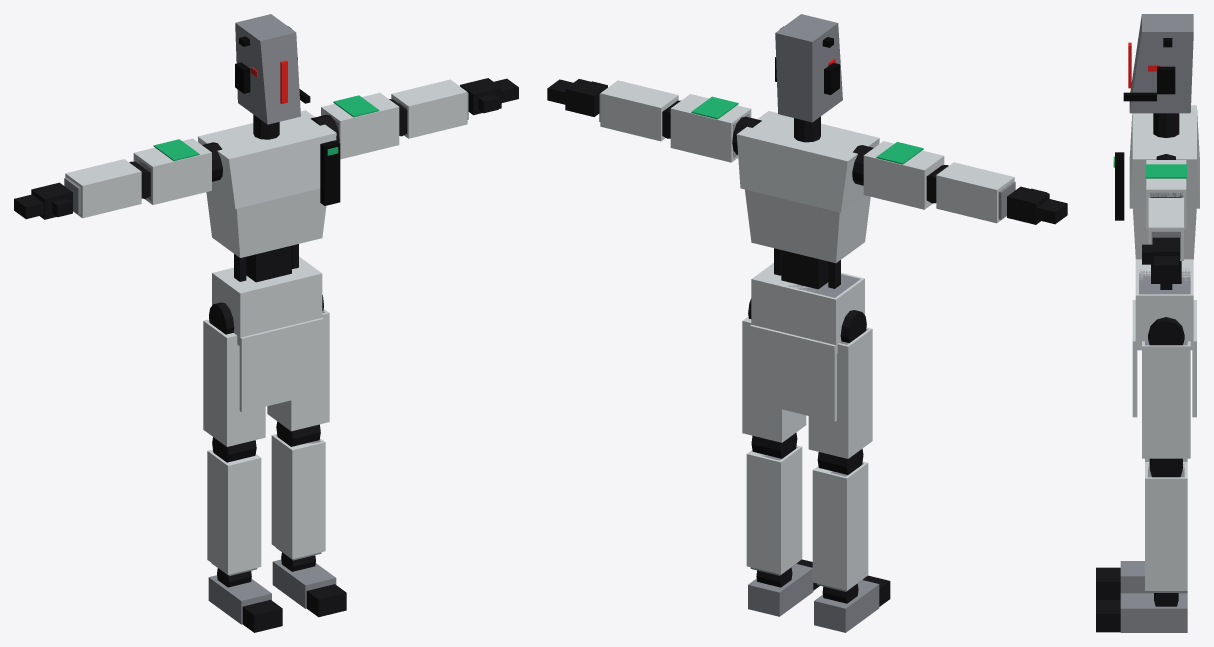
Rendered from char_F2_medical_officer.obj.
3 views of the same model, side by side, from view 1: azimuth 30°, elevation 25°; view 2: azimuth 150°, elevation 25°; view 3: azimuth 270°, elevation 25° (orthographic). The views are drawn at different scales.
Parts seen in each view (by area): view 1: MedCoat, ChassisJoints, Chassis, Strap_Medpens, MedCoat_Mark; view 2: MedCoat, Chassis, ChassisJoints, MedCoat_Mark; view 3: MedCoat, Chassis, ChassisJoints, Headset, Strap_Medpens, MedCoat_Mark, Eyes.
Boxes of the visible parts, box(x1,y1,x2,y2) form: MedCoat: box(65, 79, 467, 574); ChassisJoints: box(14, 78, 518, 632); Chassis: box(64, 14, 468, 624); Strap_Medpens: box(320, 140, 340, 205); MedCoat_Mark: box(153, 95, 379, 161); MedCoat: box(600, 80, 1014, 590); Chassis: box(599, 14, 1015, 632); ChassisJoints: box(547, 79, 1067, 606); MedCoat_Mark: box(691, 96, 923, 164); MedCoat: box(1129, 105, 1199, 590); Chassis: box(1120, 14, 1193, 632); ChassisJoints: box(1096, 113, 1184, 632); Headset: box(1123, 38, 1175, 101); Strap_Medpens: box(1115, 152, 1124, 220); MedCoat_Mark: box(1145, 164, 1186, 178); Eyes: box(1128, 42, 1160, 88).
Bounding box in the file's own units: 1.69 × 1.86 × 0.2992.
